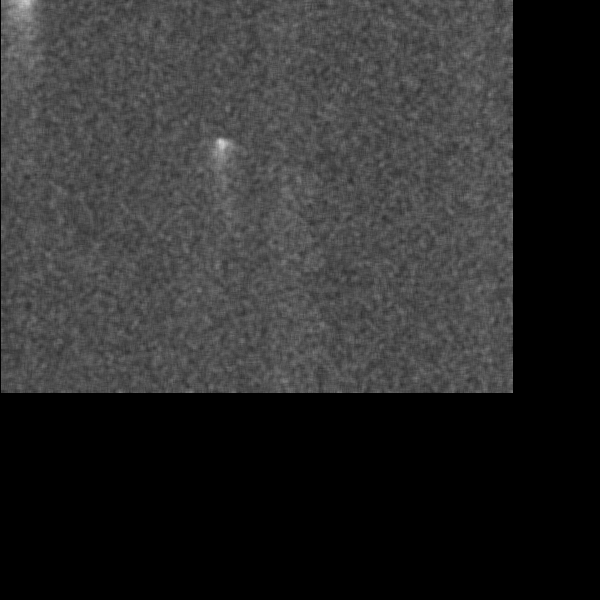spark: (212, 133, 237, 200)
